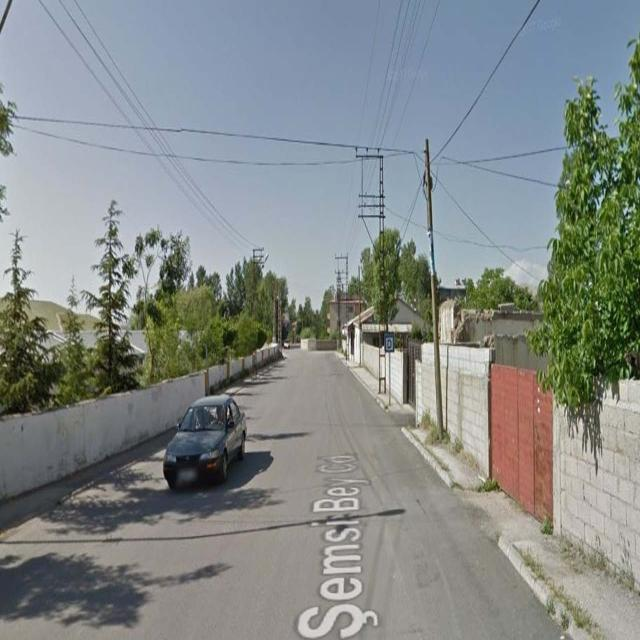durak: (384, 332, 394, 353)
